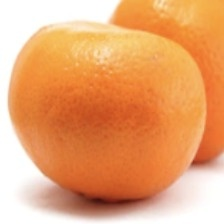orange: (5, 34, 202, 192)
